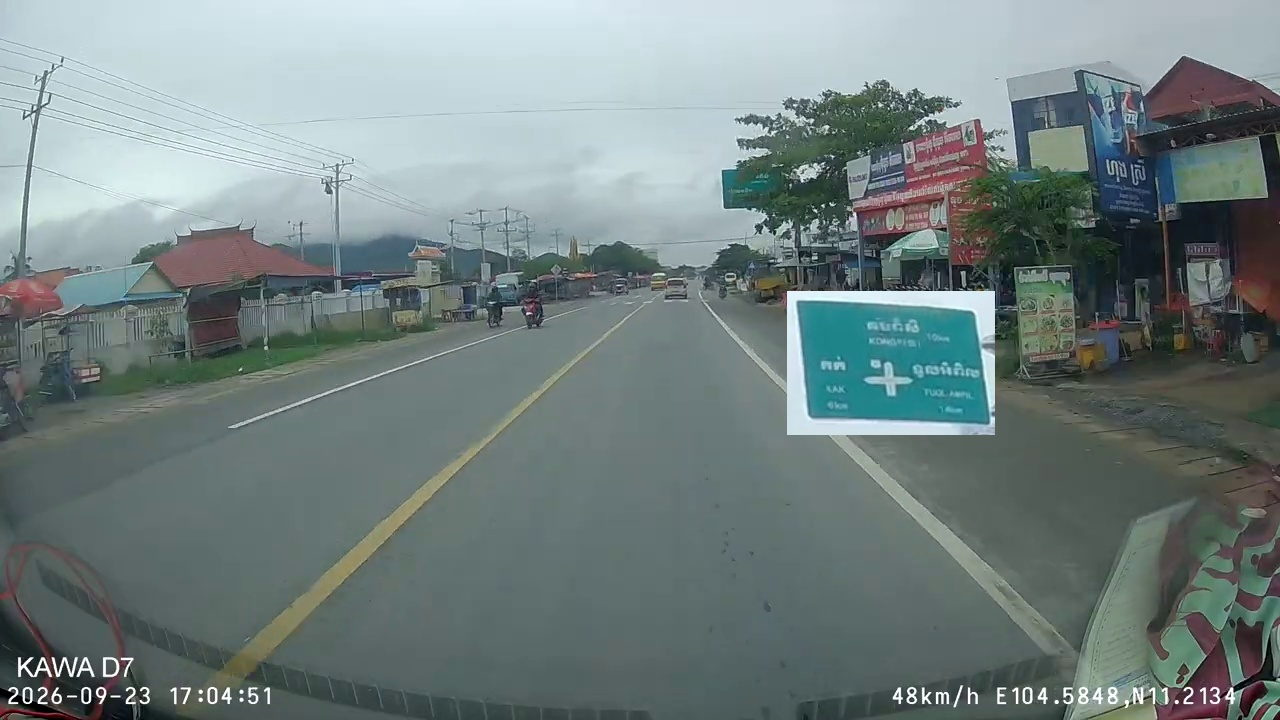direction_sign: (787, 291, 995, 435)
